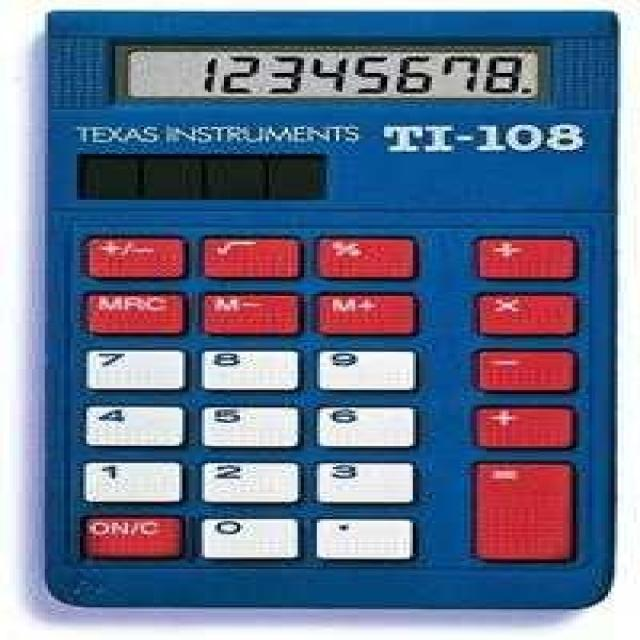Calculator: (29, 6, 621, 613)
